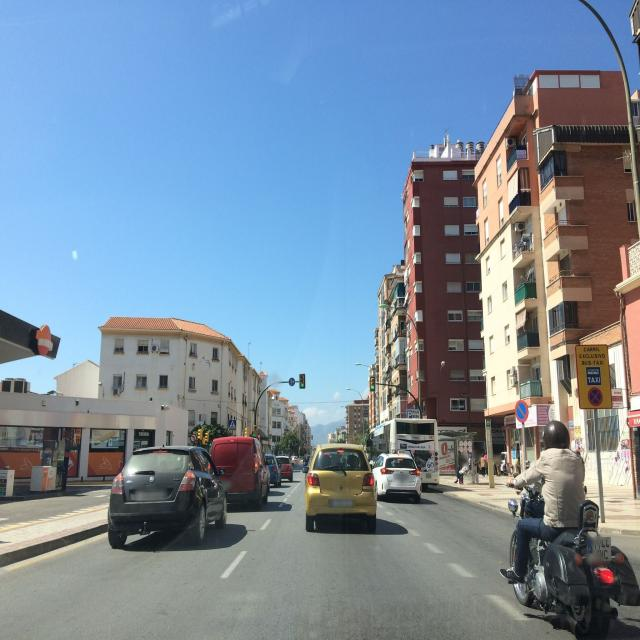bike: (501, 457, 622, 640)
car: (107, 444, 228, 548), (304, 442, 378, 533), (211, 435, 270, 508), (372, 453, 422, 503), (263, 453, 282, 488), (275, 454, 294, 482)
